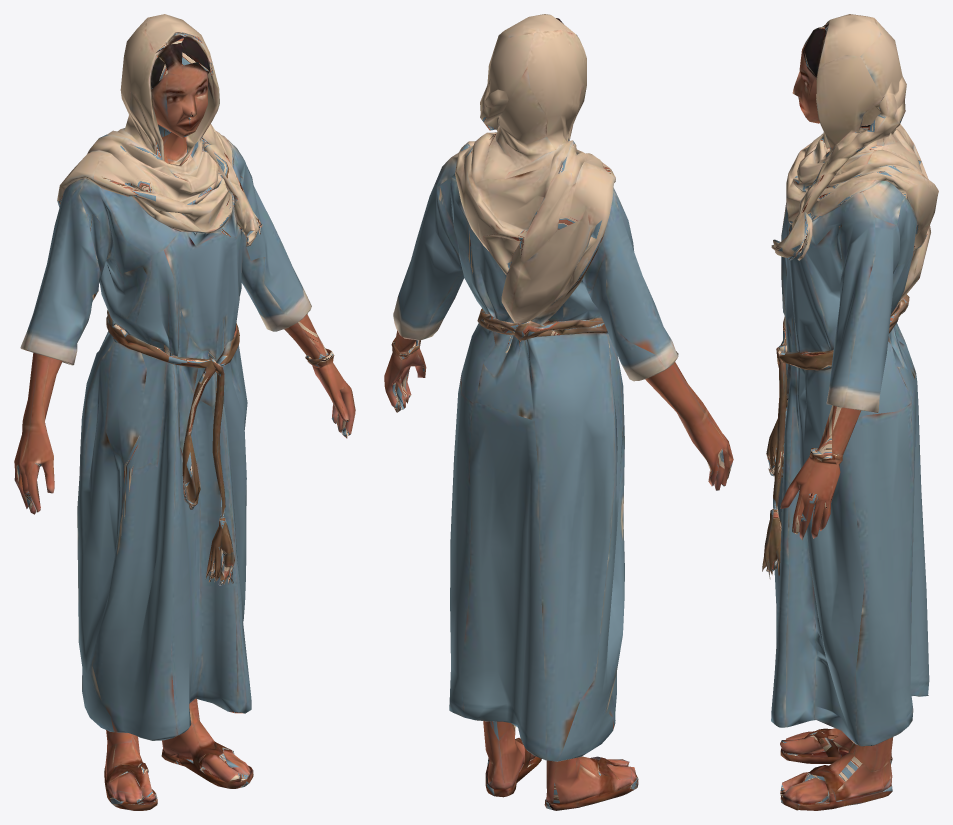
File: liberta.glb
3 renders of one model, left to right at view 1: azimuth 30°, elevation 25°; view 2: azimuth 150°, elevation 25°; view 3: azimuth 270°, elevation 25°, orthographic. The views are drawn at different scales.
Visible parts, largest first — view 1: liberta; view 2: liberta; view 3: liberta.
Part boxes in pixels (x1,y1,x2,y2): liberta: [14, 14, 355, 810]; liberta: [384, 14, 733, 810]; liberta: [762, 14, 938, 810].
Bounding box in the file's own units: 0.8252 × 1.8 × 0.3779.
Materials: 1 (1 with a texture image).
